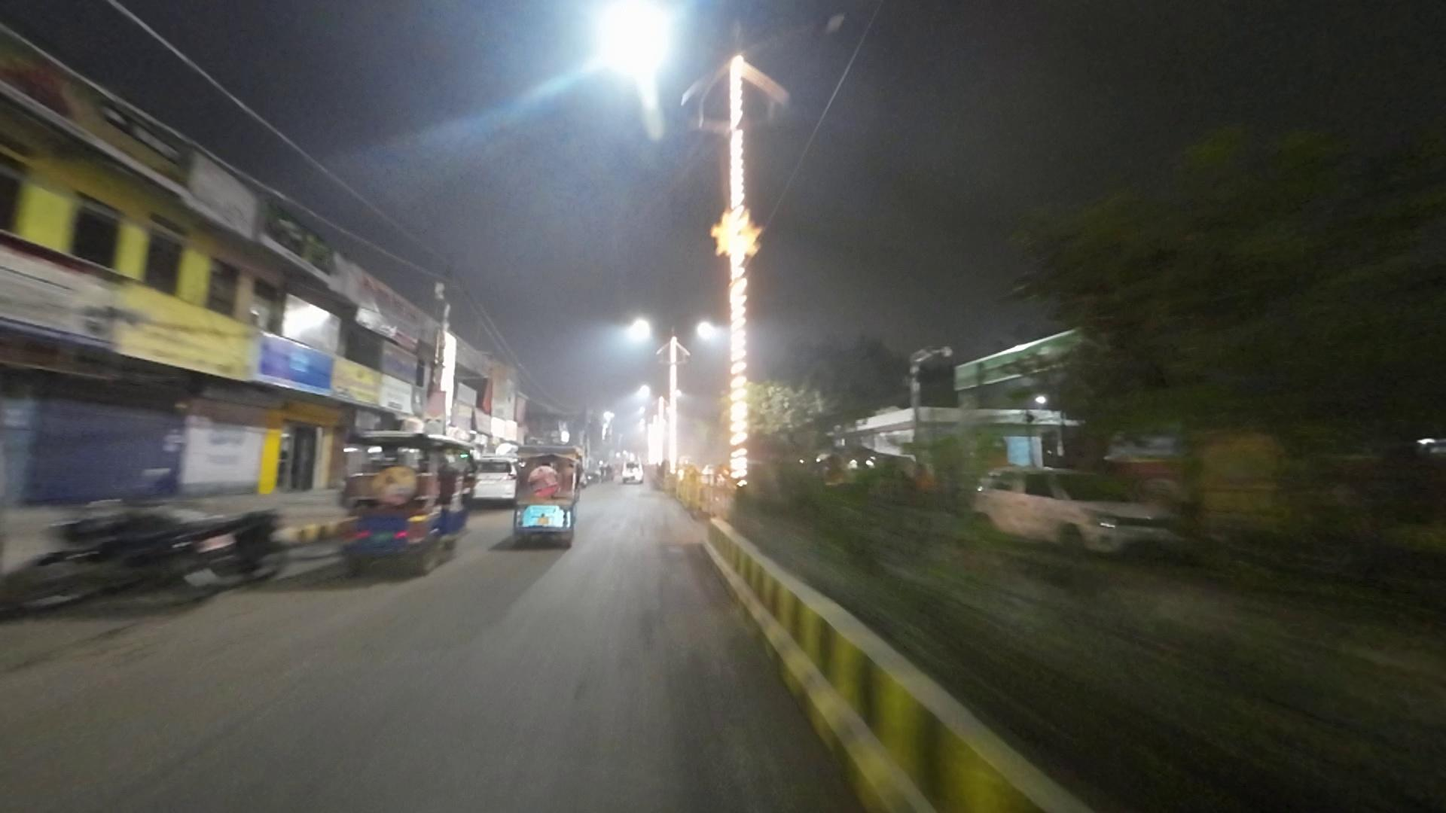streetlight: (755, 9, 847, 47)
